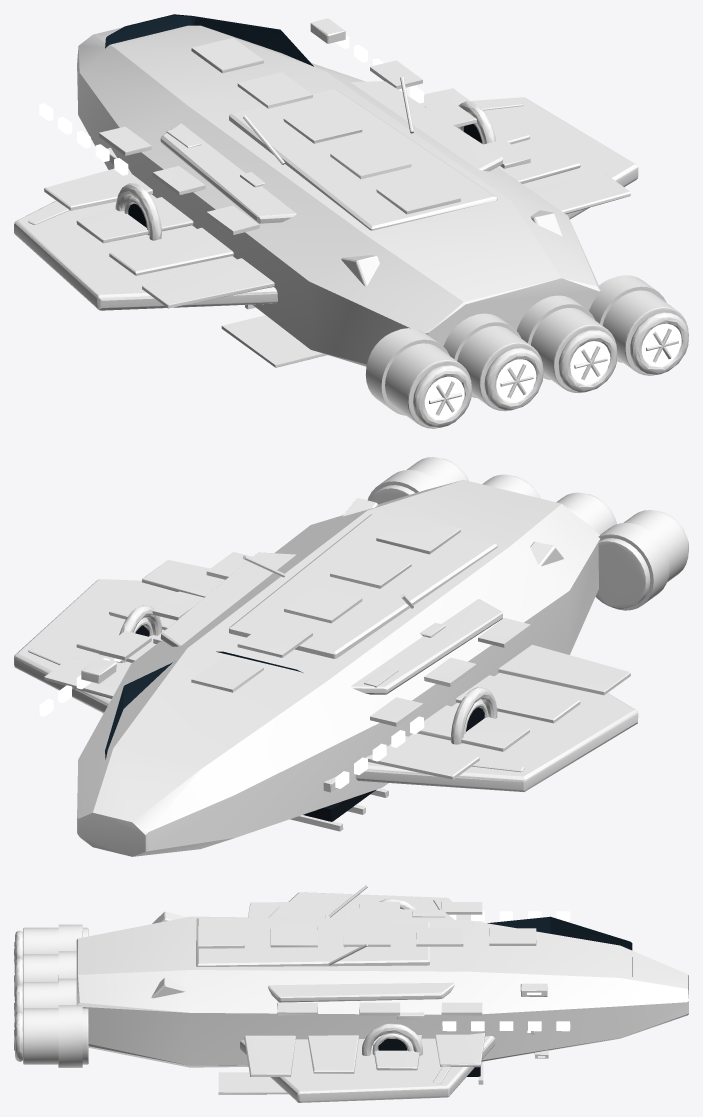
File: aur-wayfarer-shuttle-near.glb
The picture shows the model from 3 angles, top to bottom: view 1: azimuth 30°, elevation 25°; view 2: azimuth 150°, elevation 25°; view 3: azimuth 270°, elevation 25°; orthographic projection. The views are drawn at different scales.
Visible parts, largest first — view 1: Pressure_Hull, Dorsal_Access_Plate_01, Airlock_L, Airlock_L_Inner, Cabin_Window_L_01, Cockpit_Canopy; view 2: Pressure_Hull, Dorsal_Access_Plate_01, Airlock_L, Airlock_L_Inner, Cabin_Window_L_01, Cockpit_Canopy, Airlock_L_Seal; view 3: Pressure_Hull, Dorsal_Access_Plate_01, Airlock_L, Airlock_L_Inner, Cockpit_Canopy, Cabin_Window_L_01, Airlock_L_Seal.
Part boxes in pixels (x1,y1,x2,y2): Pressure_Hull: (77, 25, 600, 366); Dorsal_Access_Plate_01: (14, 38, 688, 427); Airlock_L: (28, 89, 666, 415); Airlock_L_Inner: (76, 18, 688, 428); Cabin_Window_L_01: (39, 35, 681, 419); Cockpit_Canopy: (105, 14, 313, 66); Pressure_Hull: (77, 480, 600, 856); Dorsal_Access_Plate_01: (14, 458, 688, 792); Airlock_L: (28, 470, 669, 831); Airlock_L_Inner: (76, 457, 688, 751); Cabin_Window_L_01: (39, 658, 424, 788); Cockpit_Canopy: (105, 651, 302, 759); Airlock_L_Seal: (135, 625, 484, 821); Pressure_Hull: (76, 916, 688, 1067); Dorsal_Access_Plate_01: (15, 892, 536, 1102); Airlock_L: (58, 898, 548, 1094); Airlock_L_Inner: (14, 885, 547, 1076); Cockpit_Canopy: (487, 916, 632, 976); Cabin_Window_L_01: (442, 911, 570, 1057); Airlock_L_Seal: (378, 1038, 480, 1076).
Size of the model in its own units: 26.37 by 8.28 by 37.33.
